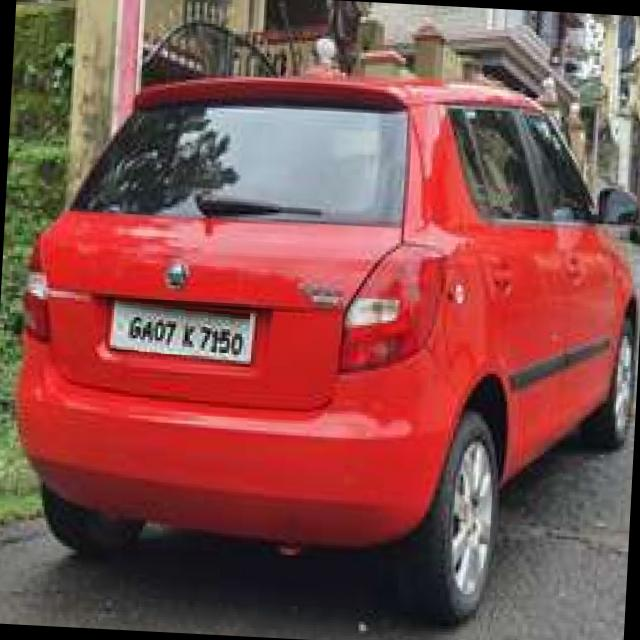Plate: (106, 298, 253, 359)
